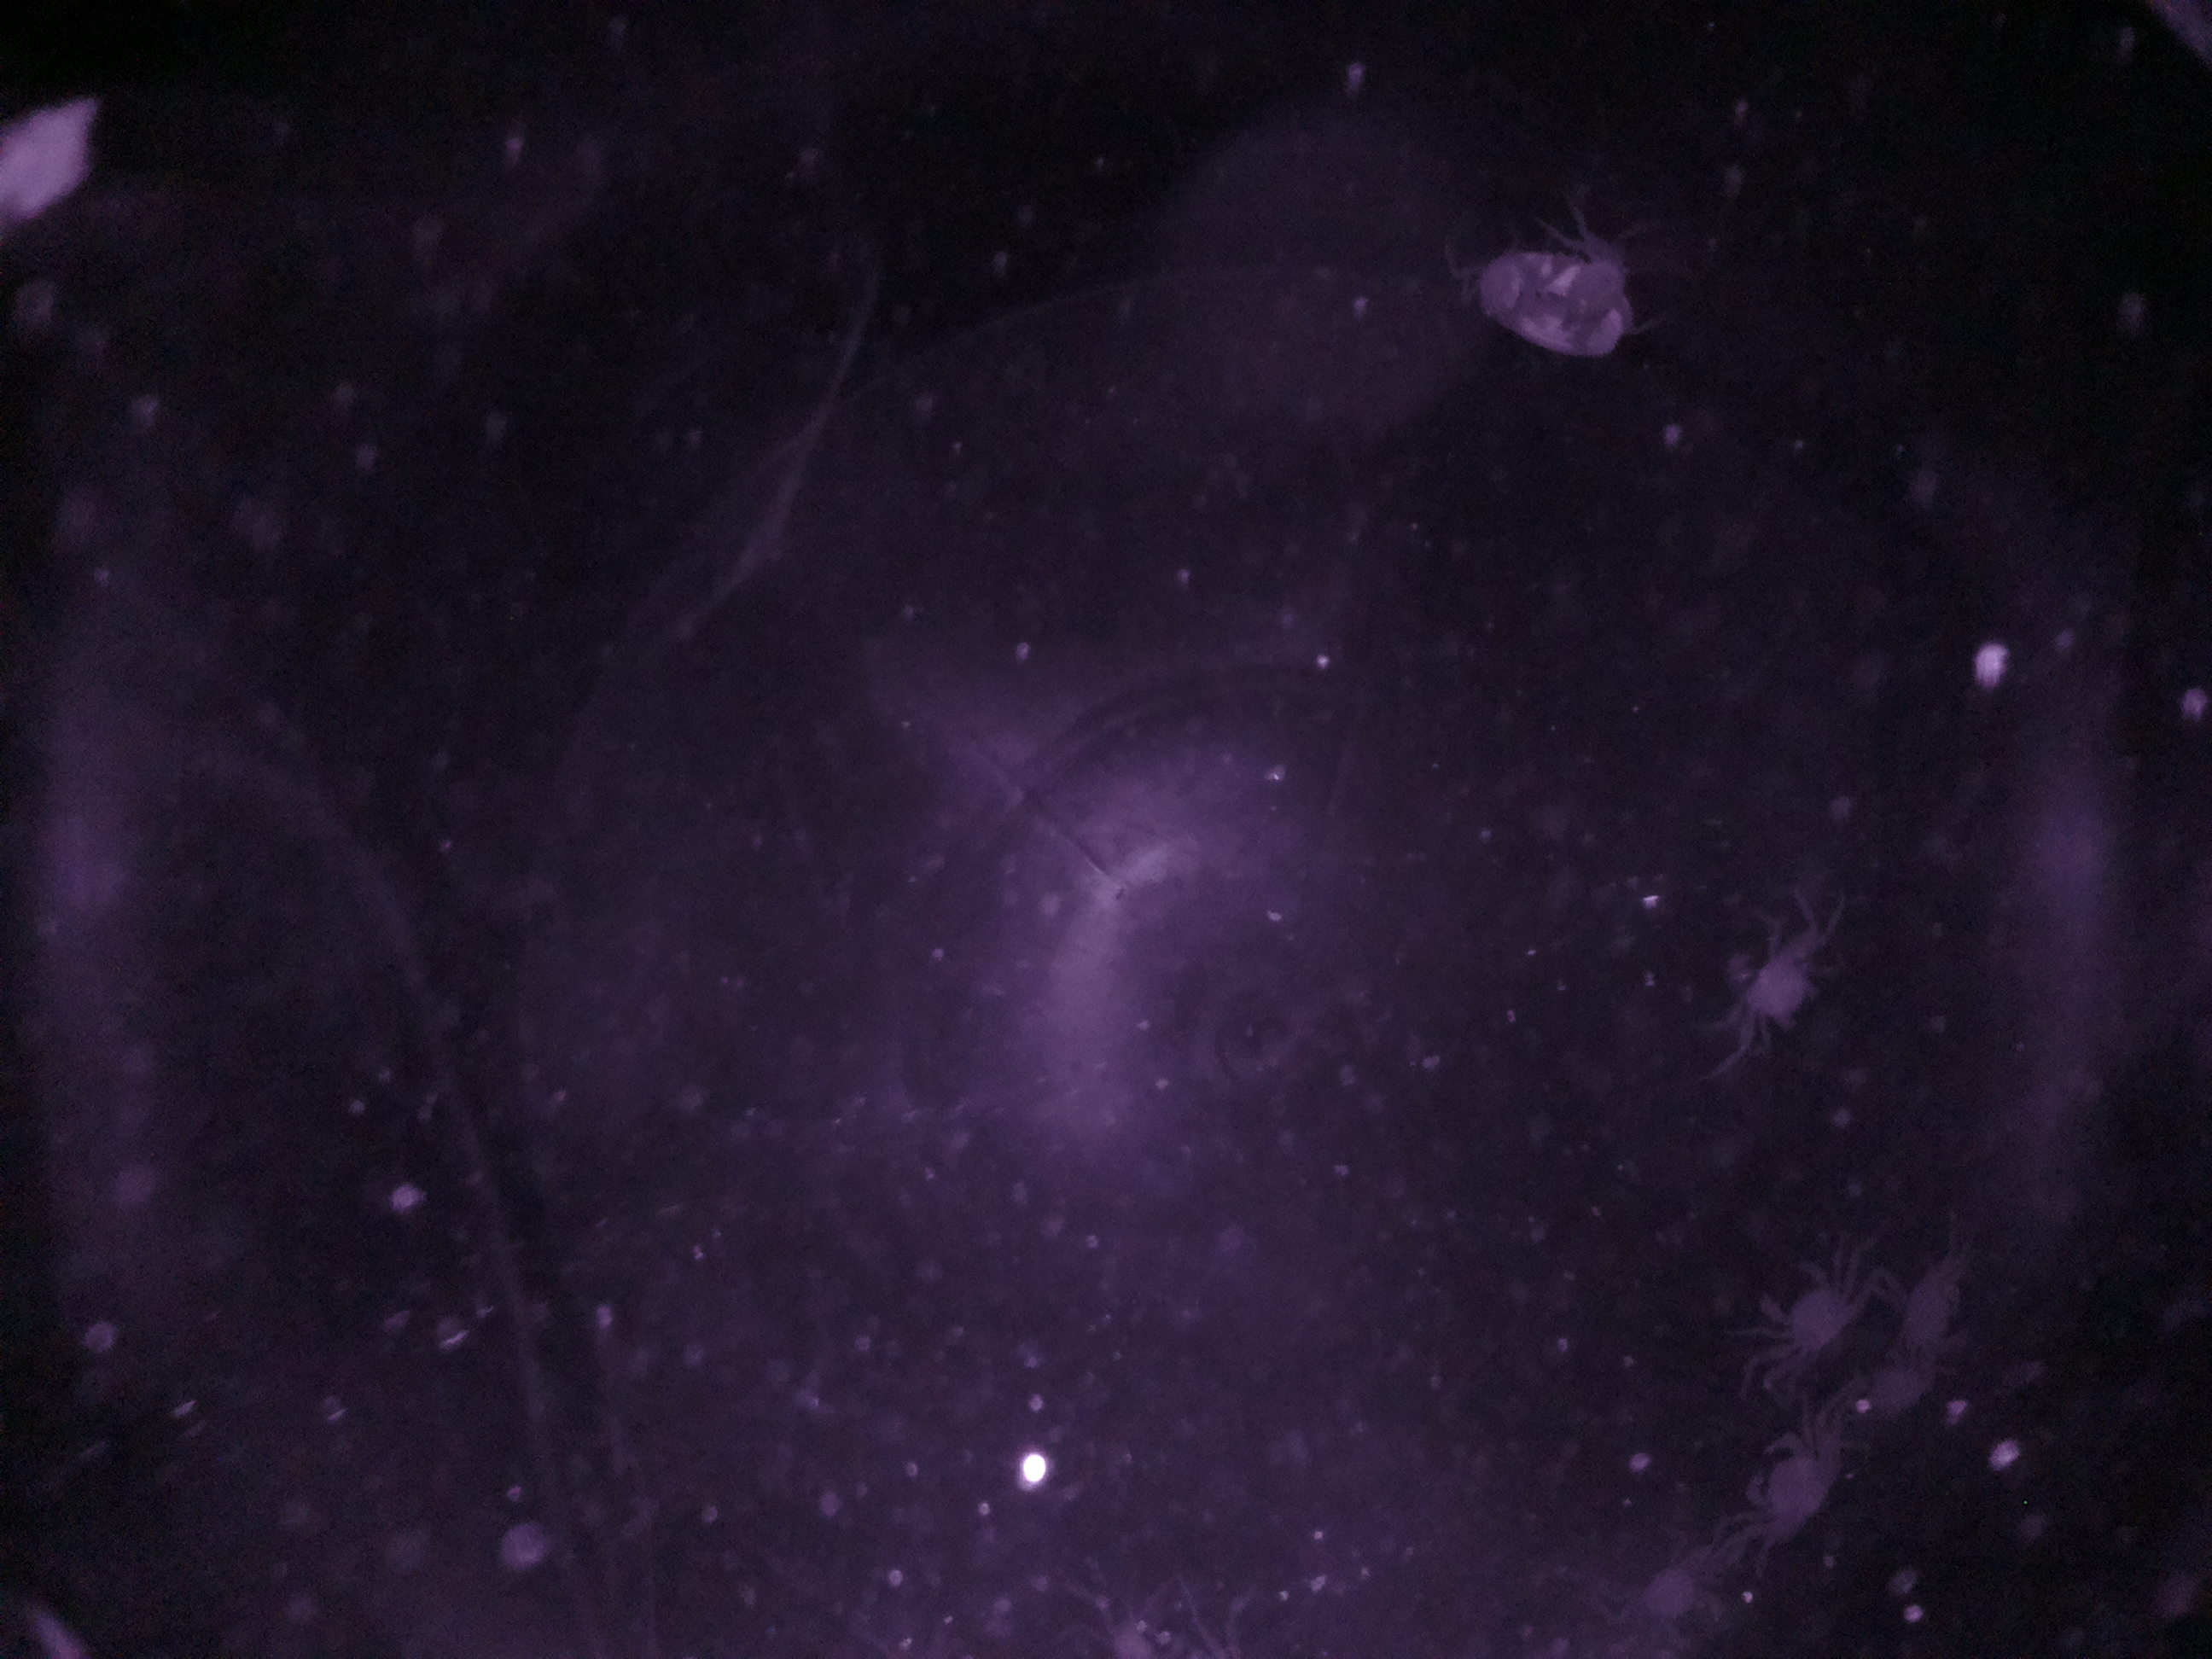Crab: (1723, 1420, 1872, 1561), (1738, 1237, 1872, 1378)
